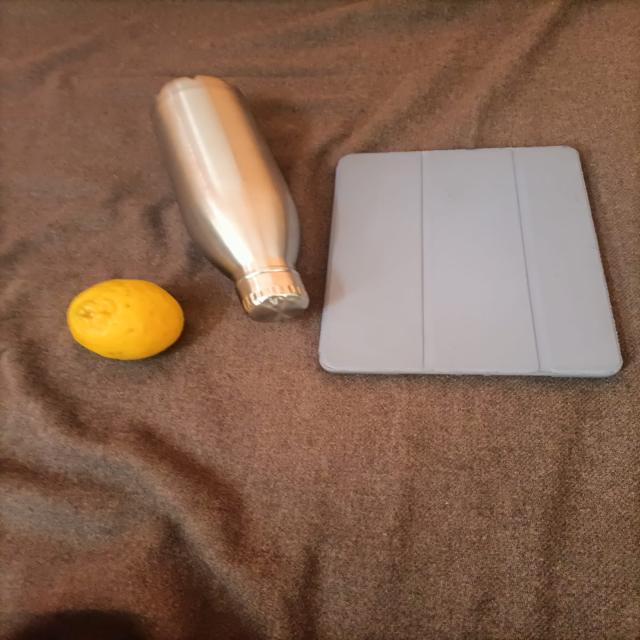bottle: (135, 68, 317, 331)
orange: (52, 274, 201, 371)
tablet: (314, 135, 627, 400)
